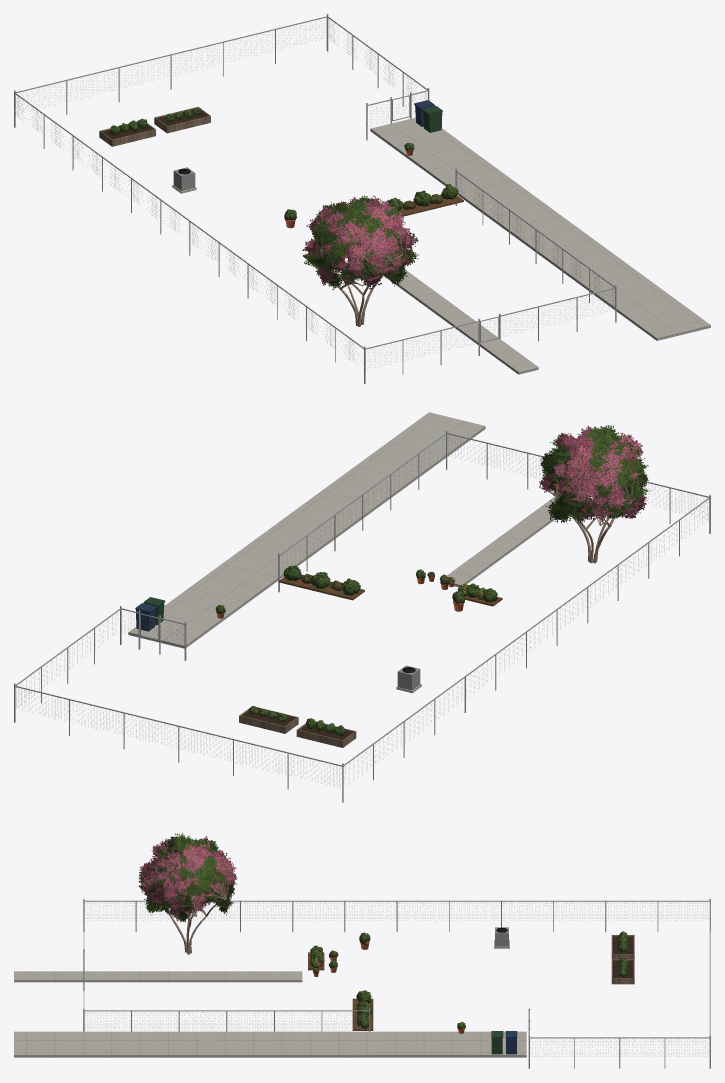
The model's file is hernandez-house-lot.glb.
3 renders of one model, top to bottom at view 1: azimuth 30°, elevation 25°; view 2: azimuth 150°, elevation 25°; view 3: azimuth 270°, elevation 25°, orthographic. The views are drawn at different scales.
Visible parts, largest first — view 1: Lot_Hardscape, Tree_CrepeMyrtle_1, Lot_Fence, Lot_Props, Lot_Plants; view 2: Lot_Hardscape, Tree_CrepeMyrtle_1, Lot_Fence, Lot_Props, Lot_Plants; view 3: Lot_Hardscape, Tree_CrepeMyrtle_1, Lot_Fence, Lot_Props, Lot_Plants.
Part boxes in pixels (x1,y1,x2,y2): Lot_Hardscape: (303,117,710,374); Tree_CrepeMyrtle_1: (302,195,419,326); Lot_Fence: (14,14,616,383); Lot_Props: (99,100,442,193); Lot_Plants: (110,107,458,254); Lot_Hardscape: (128,412,554,648); Tree_CrepeMyrtle_1: (538,425,650,563); Lot_Fence: (14,430,710,802); Lot_Props: (135,597,421,747); Lot_Plants: (215,565,497,735); Lot_Hardscape: (14,952,526,1057); Tree_CrepeMyrtle_1: (137,832,237,954); Lot_Fence: (83,899,710,1068); Lot_Props: (491,927,634,1054); Lot_Plants: (310,931,628,1033).
Size of the model in its own units: 17.15 by 7 by 36.83.
Materials: 17 (11 with a texture image).
